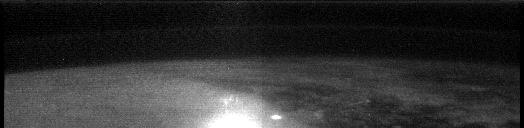positive: (214, 90, 243, 112)
